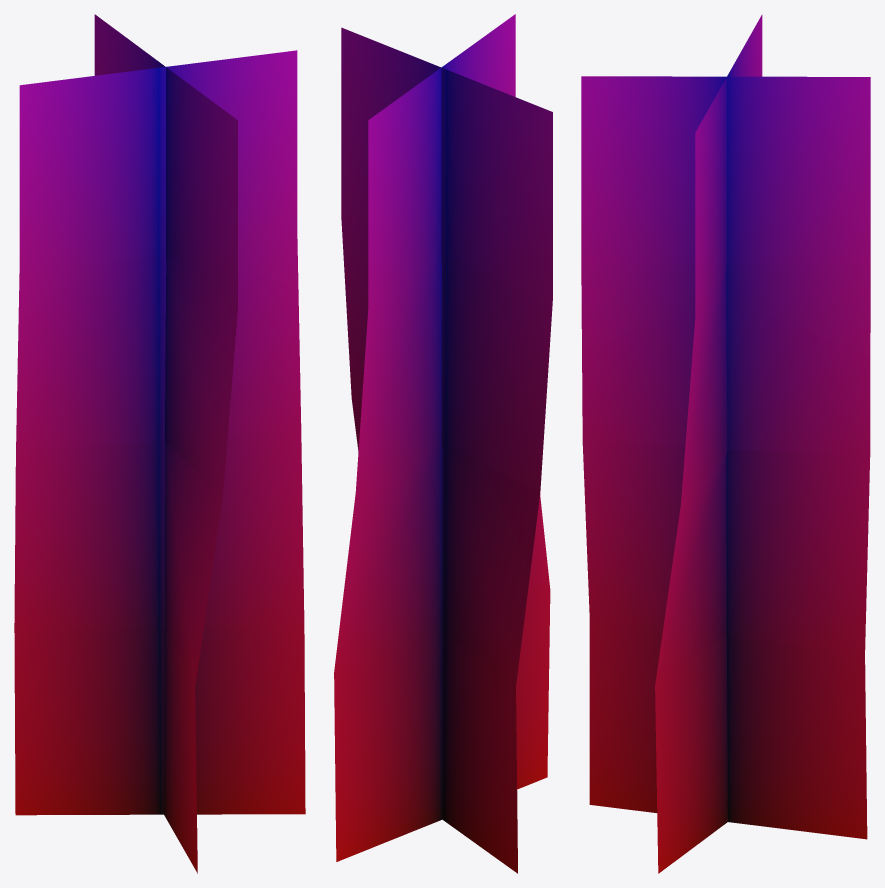
Rendered from fine_filbert_01_3.fbx.
3 views of the same model, side by side, from view 1: azimuth 30°, elevation 25°; view 2: azimuth 150°, elevation 25°; view 3: azimuth 270°, elevation 25° (orthographic).
Visible parts, largest first — view 1: fine_filbert_01_3_lod_0; view 2: fine_filbert_01_3_lod_0; view 3: fine_filbert_01_3_lod_0.
Part boxes in pixels (x1=…): fine_filbert_01_3_lod_0: x1=14, y1=14, x2=305, y2=873; fine_filbert_01_3_lod_0: x1=334, y1=14, x2=552, y2=873; fine_filbert_01_3_lod_0: x1=581, y1=14, x2=870, y2=873.
Size of what is drawn, in the model's own units: 0.1935 by 0.1989 by 0.5659.
